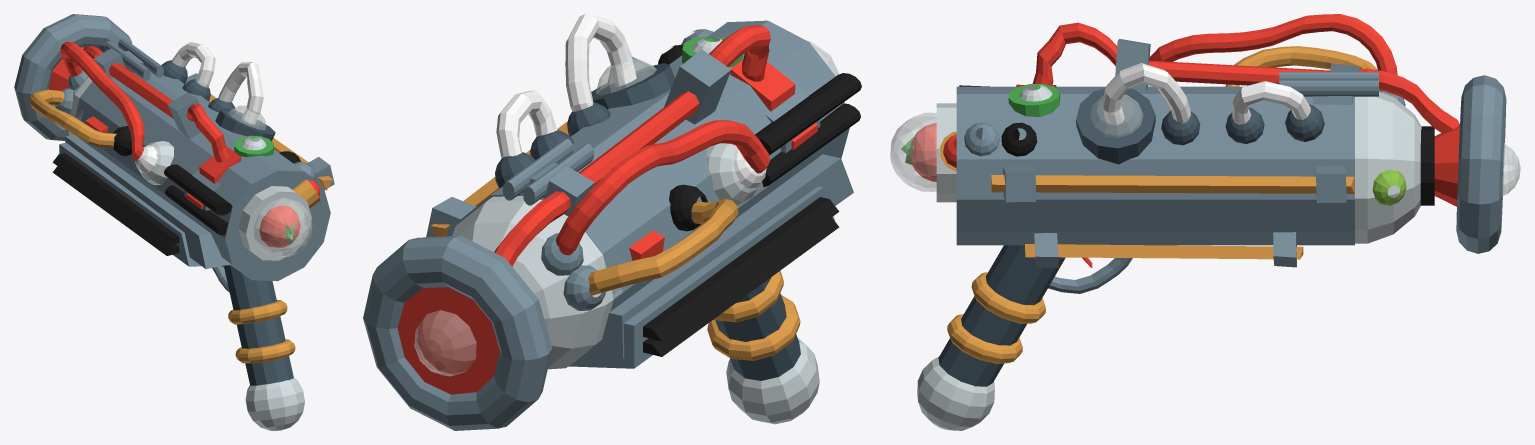
File: TOMATRON 82.glb
3 views of the same model, side by side, from view 1: azimuth 30°, elevation 25°; view 2: azimuth 150°, elevation 25°; view 3: azimuth 270°, elevation 25° (orthographic). The views are drawn at different scales.
Parts seen in each view (by area): view 1: group1076175271, group1361391660, group1519233596, group1504437440, group1591689974, group1745338368, group1012879, group1583859191, group782664864, group489088275, group484274957, group1945881661 (+26 smaller); view 2: group1361391660, group1076175271, group620999085, group1162283701, group1504437440, group782664864, group1583859191, group484274957, group489088275, group1012879, group1945881661, group1519233596 (+27 smaller); view 3: group1076175271, group620999085, group1361391660, group905564538, group1519233596, group782664864, group869030446, group304389100, group1012879, group1745338368, group1945881661, group647767145 (+22 smaller).
Part boxes in pixels (x1,y1,x2,y2): group1076175271: (75,72,330,281); group1361391660: (14,14,131,140); group1519233596: (224,265,293,385); group1504437440: (65,134,229,269); group1591689974: (238,186,311,260); group1745338368: (254,198,312,256); group1012879: (245,378,304,430); group1583859191: (164,164,232,235); group782664864: (60,42,144,161); group489088275: (29,90,116,148); group484274957: (59,142,230,266); group1945881661: (218,62,263,124); group1361391660: (363,235,552,430); group1076175271: (460,20,849,363); group620999085: (452,195,622,369); group1162283701: (397,287,499,394); group1504437440: (588,154,853,358); group782664864: (555,120,769,255); group1583859191: (755,73,861,187); group484274957: (568,186,834,368); group489088275: (588,199,738,295); group1012879: (726,338,819,424); group1945881661: (565,14,636,111); group1519233596: (715,277,800,380); group1076175271: (956,86,1354,245); group620999085: (1355,91,1421,243); group1361391660: (1456,75,1506,253); group905564538: (991,165,1354,203); group1519233596: (938,245,1065,386); group782664864: (1149,14,1397,75); group869030446: (1025,232,1303,267); group304389100: (1076,88,1155,164); group1012879: (917,356,994,430); group1745338368: (890,112,936,191); group1945881661: (1102,63,1190,124); group647767145: (1279,72,1378,104).
Bounding box in the file's own units: 0.133 × 0.2185 × 0.3166.
